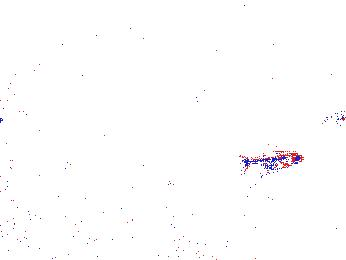X-ray fish: (249, 57, 282, 82)
red belly glassfish: (235, 149, 305, 173), (319, 104, 346, 141)
